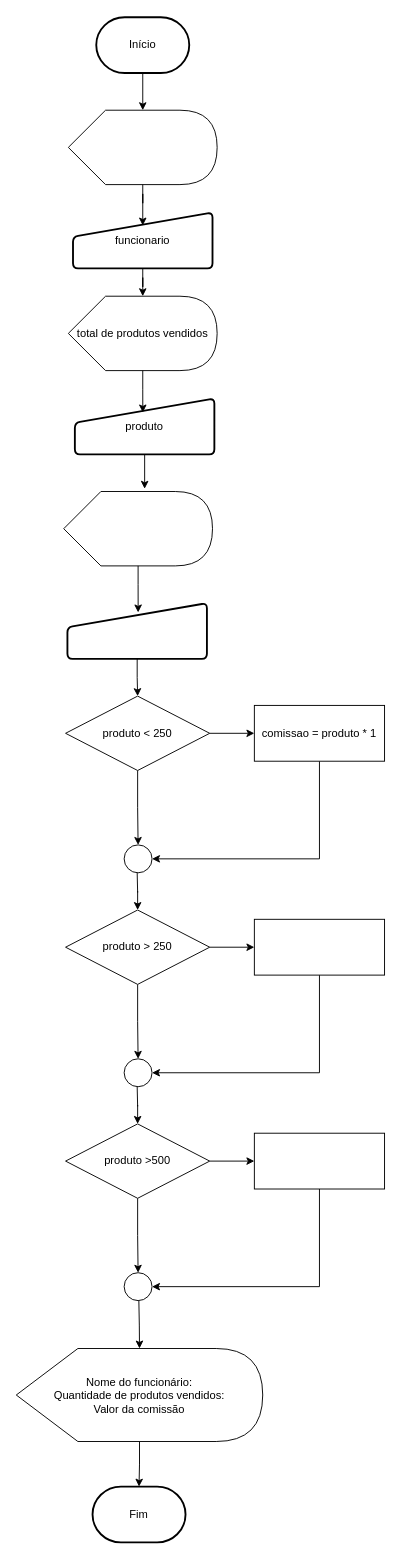
This 401x1559 diagram has some shape labels left out. The shapes that lost their labels are listed below. From the top down, each one's centre as x and y in pixels, then its label:
At point 142,147: "Nome do funcionário".
At point 138,528: "Total de comissão recebido".
At point 136,630: "comissao".
At point 319,946: "comissão = produto * 1.50".
At point 319,1160: "comissão = produto * 2".
